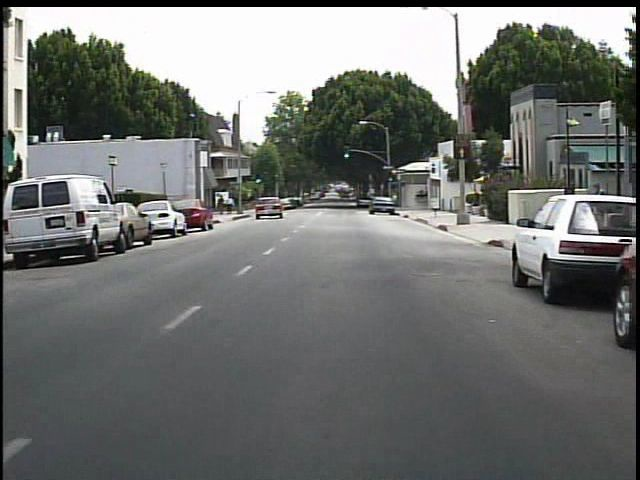person: (216, 195, 229, 218), (226, 196, 237, 218)
